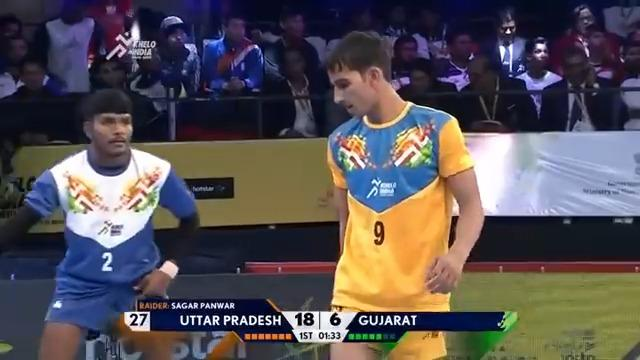Player: (0, 86, 200, 359)
Raider: (323, 29, 485, 358)
referee: (539, 41, 628, 131), (200, 11, 279, 96)
